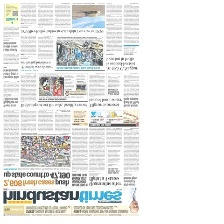news_paper: (0, 2, 140, 218)
